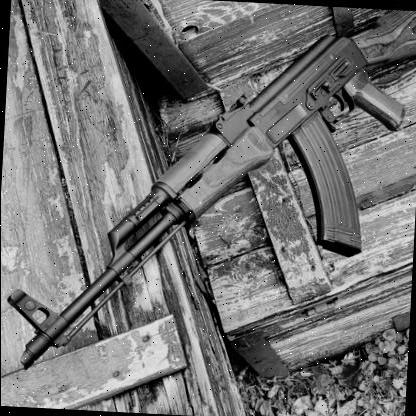rifle: (13, 0, 416, 404)
